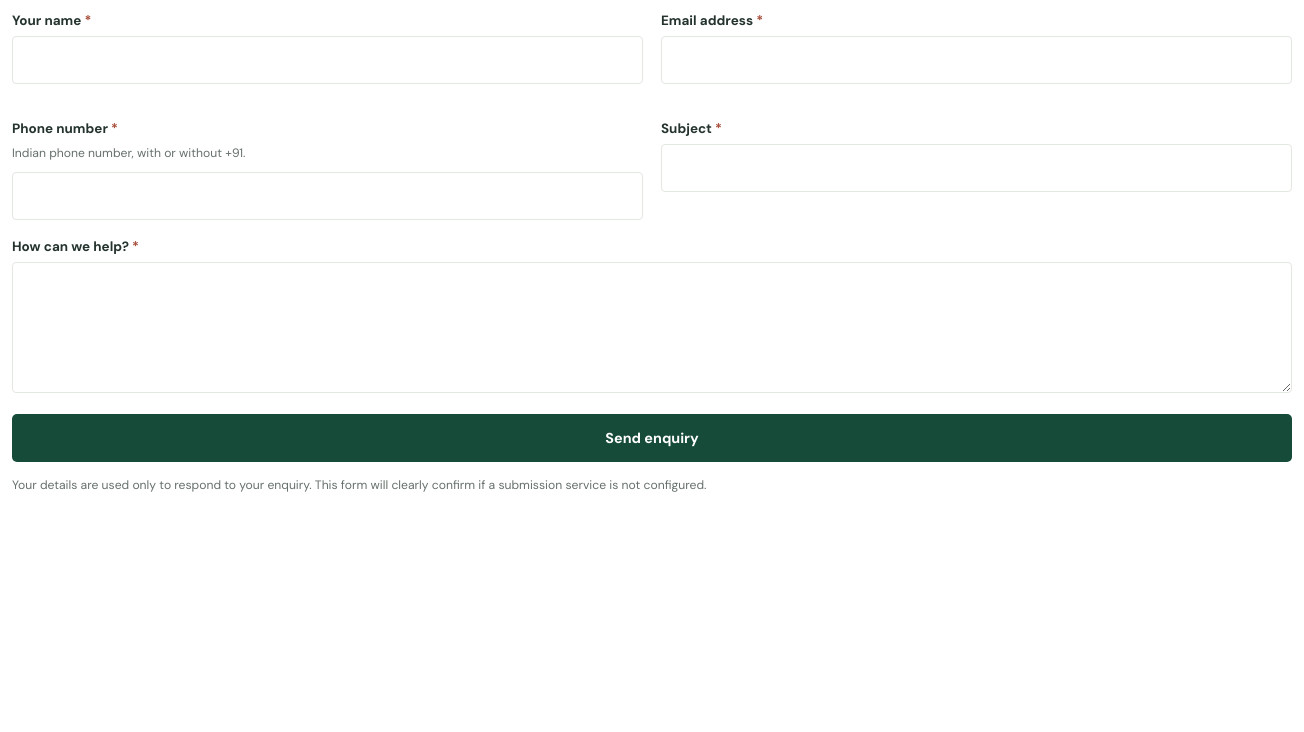
contact form › clearly reports that the form is not connected instead of claiming success
Type "Asha Rao" into the field labelled "Your name *". click: [328, 60]
box: [12,36,643,84]
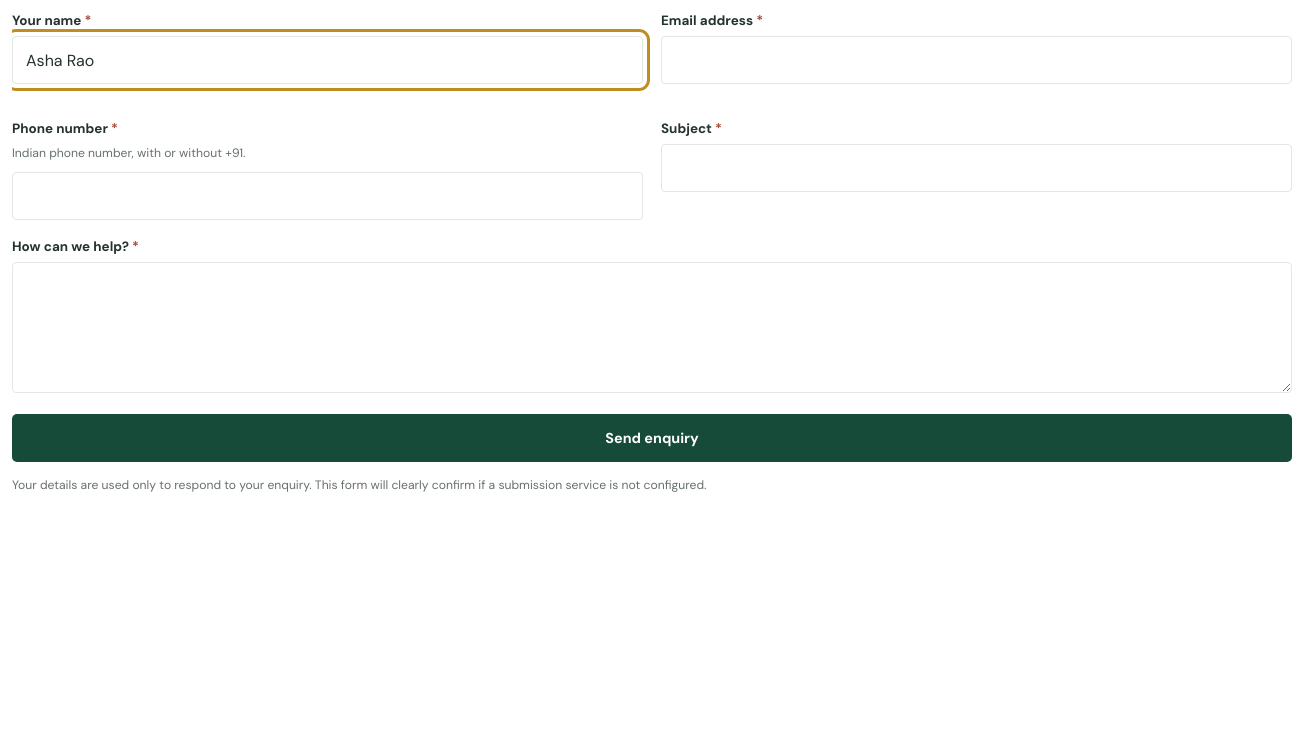
Type "asha@example.com" into the field labelled "Email address *". click: [976, 60]
box: [661,36,1292,84]
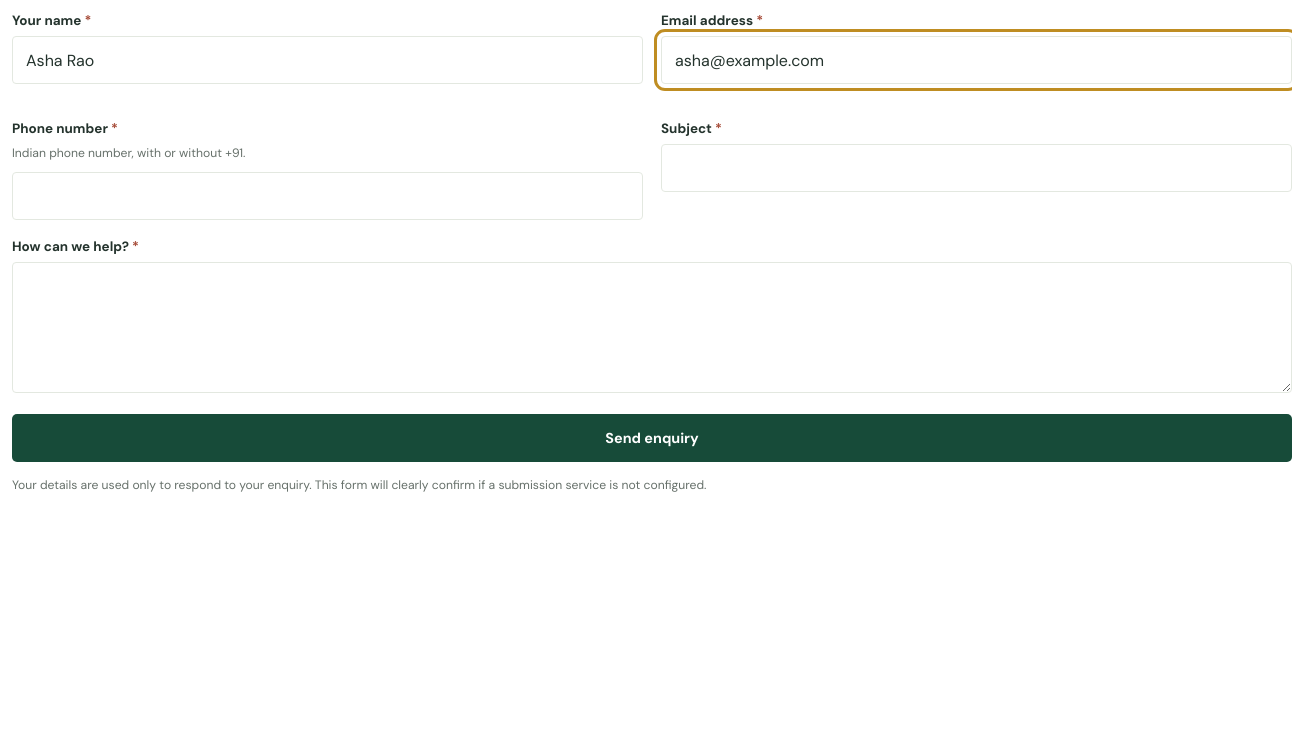
Type "+91 9964311000" into the field labelled "Phone number *". click: [328, 196]
box: [12,172,643,220]
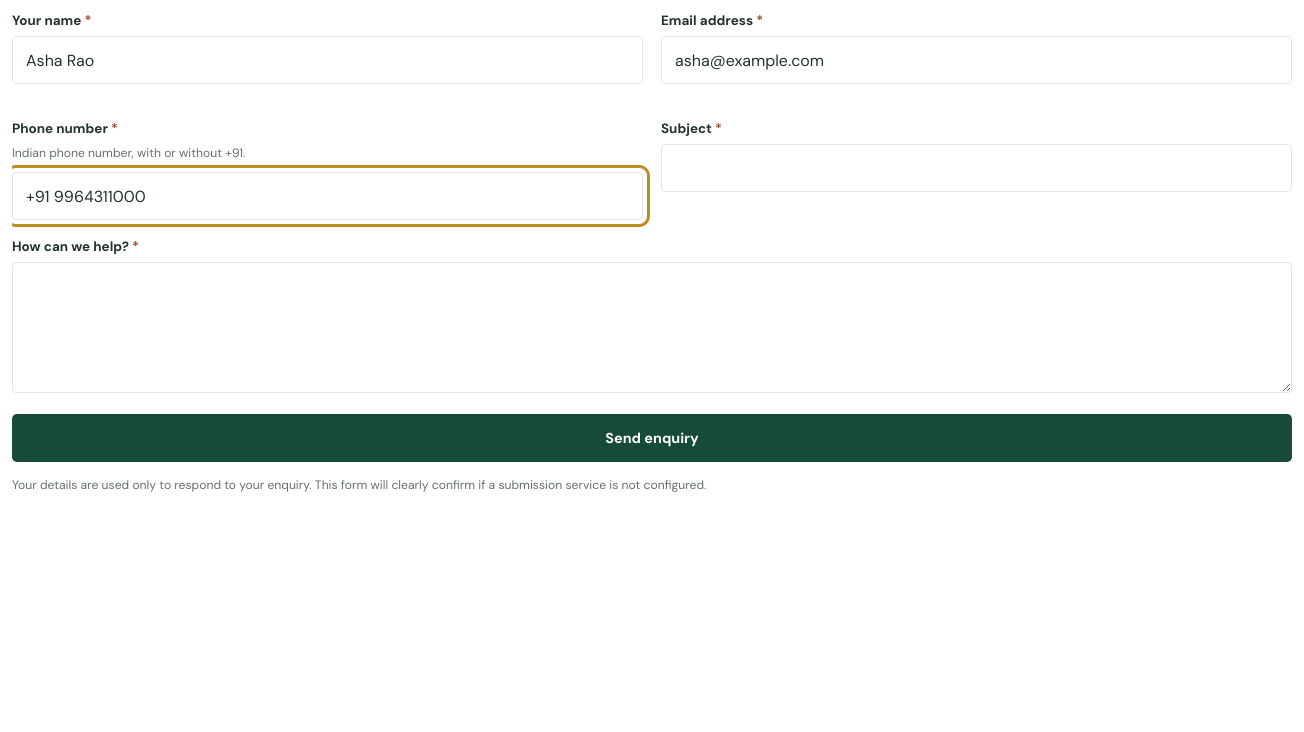
Type "Solar enquiry" into the field labelled "Subject *". click: [976, 168]
box: [661,144,1292,192]
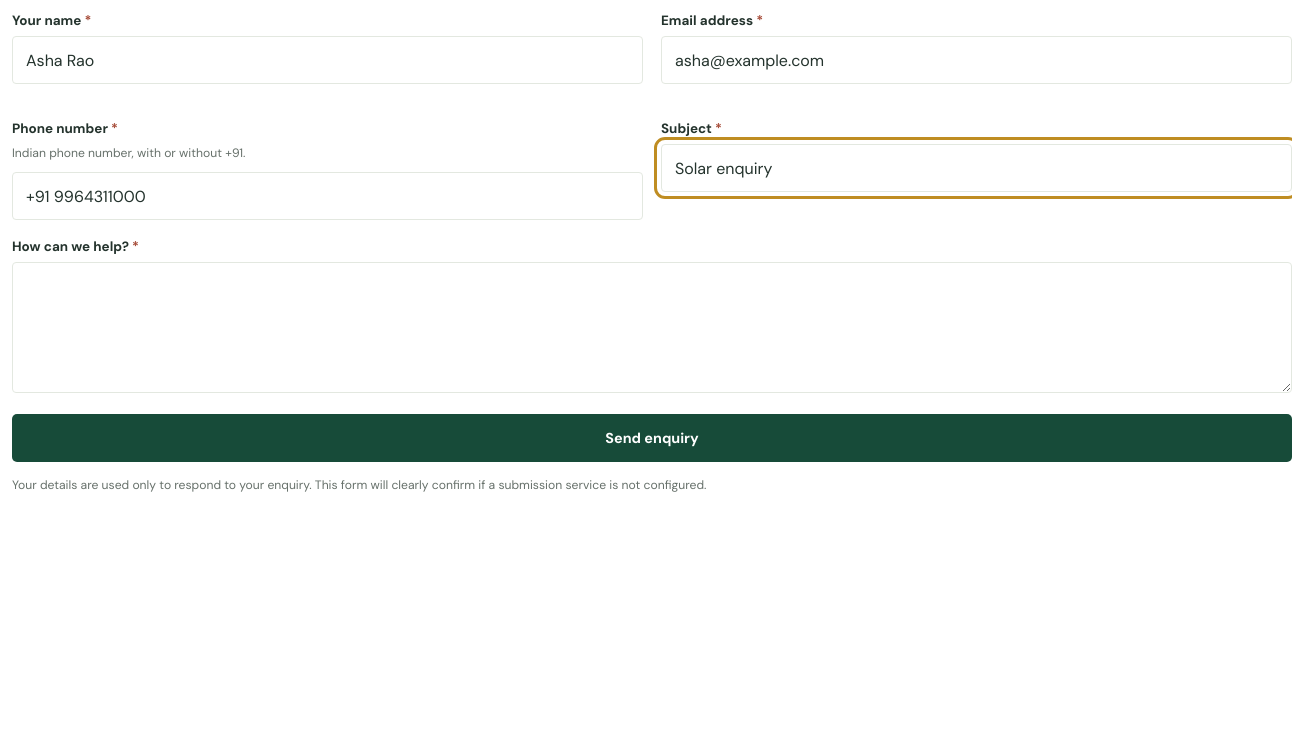
Type "Please contact me." into the text box labelled "How can we help? *". click: [652, 328]
box: [12,262,1292,393]
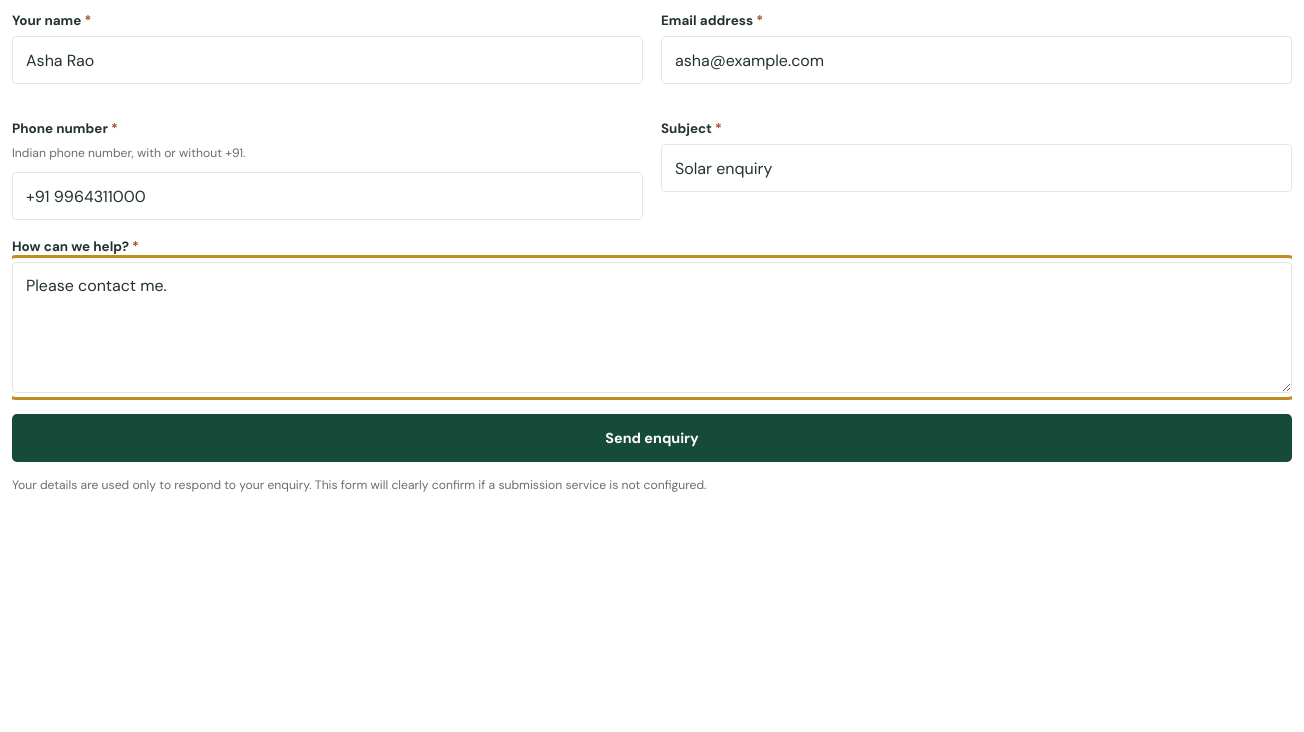
Click the button "Send enquiry". click: [652, 438]
box: [12,414,1292,462]
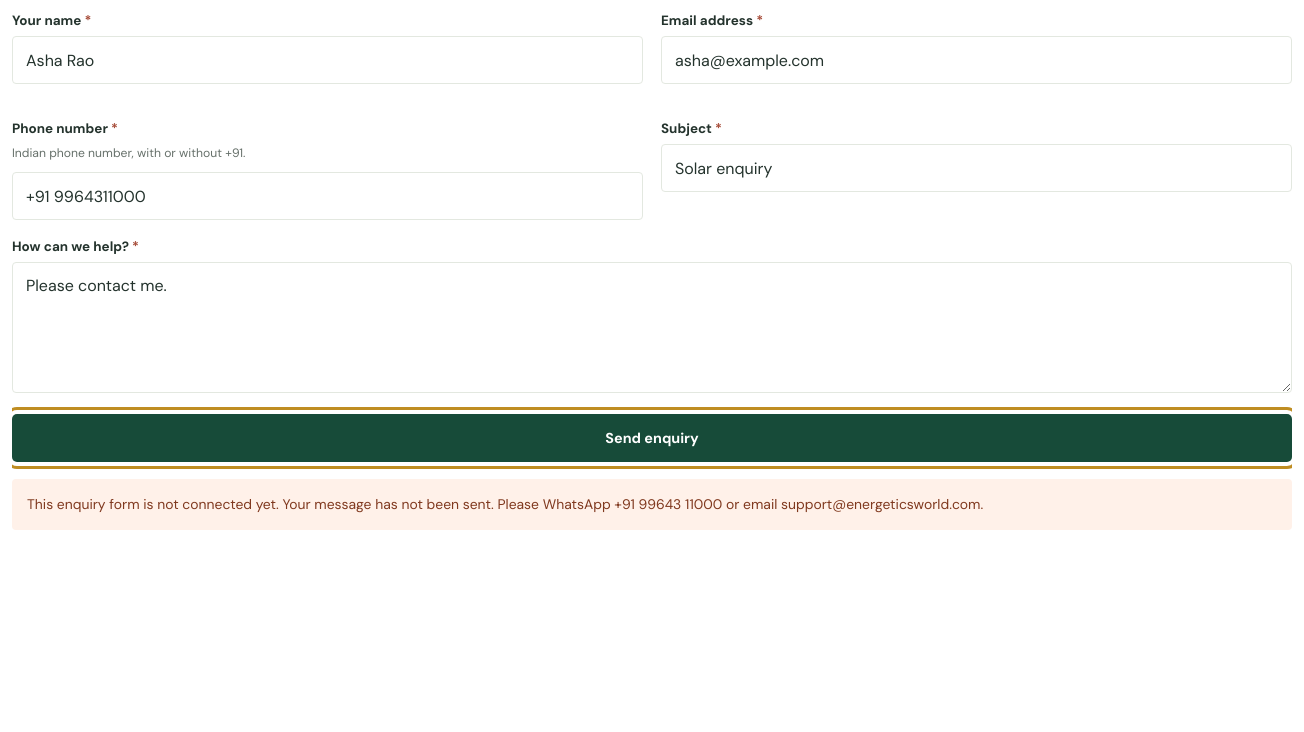
Expected: the message shows "not connected yet", [27,495,983,513]
Expected: the message shows "has not been sent", [27,495,983,513]
Expected: the message shows "WhatsApp +91 99643 11000", [27,495,983,513]
